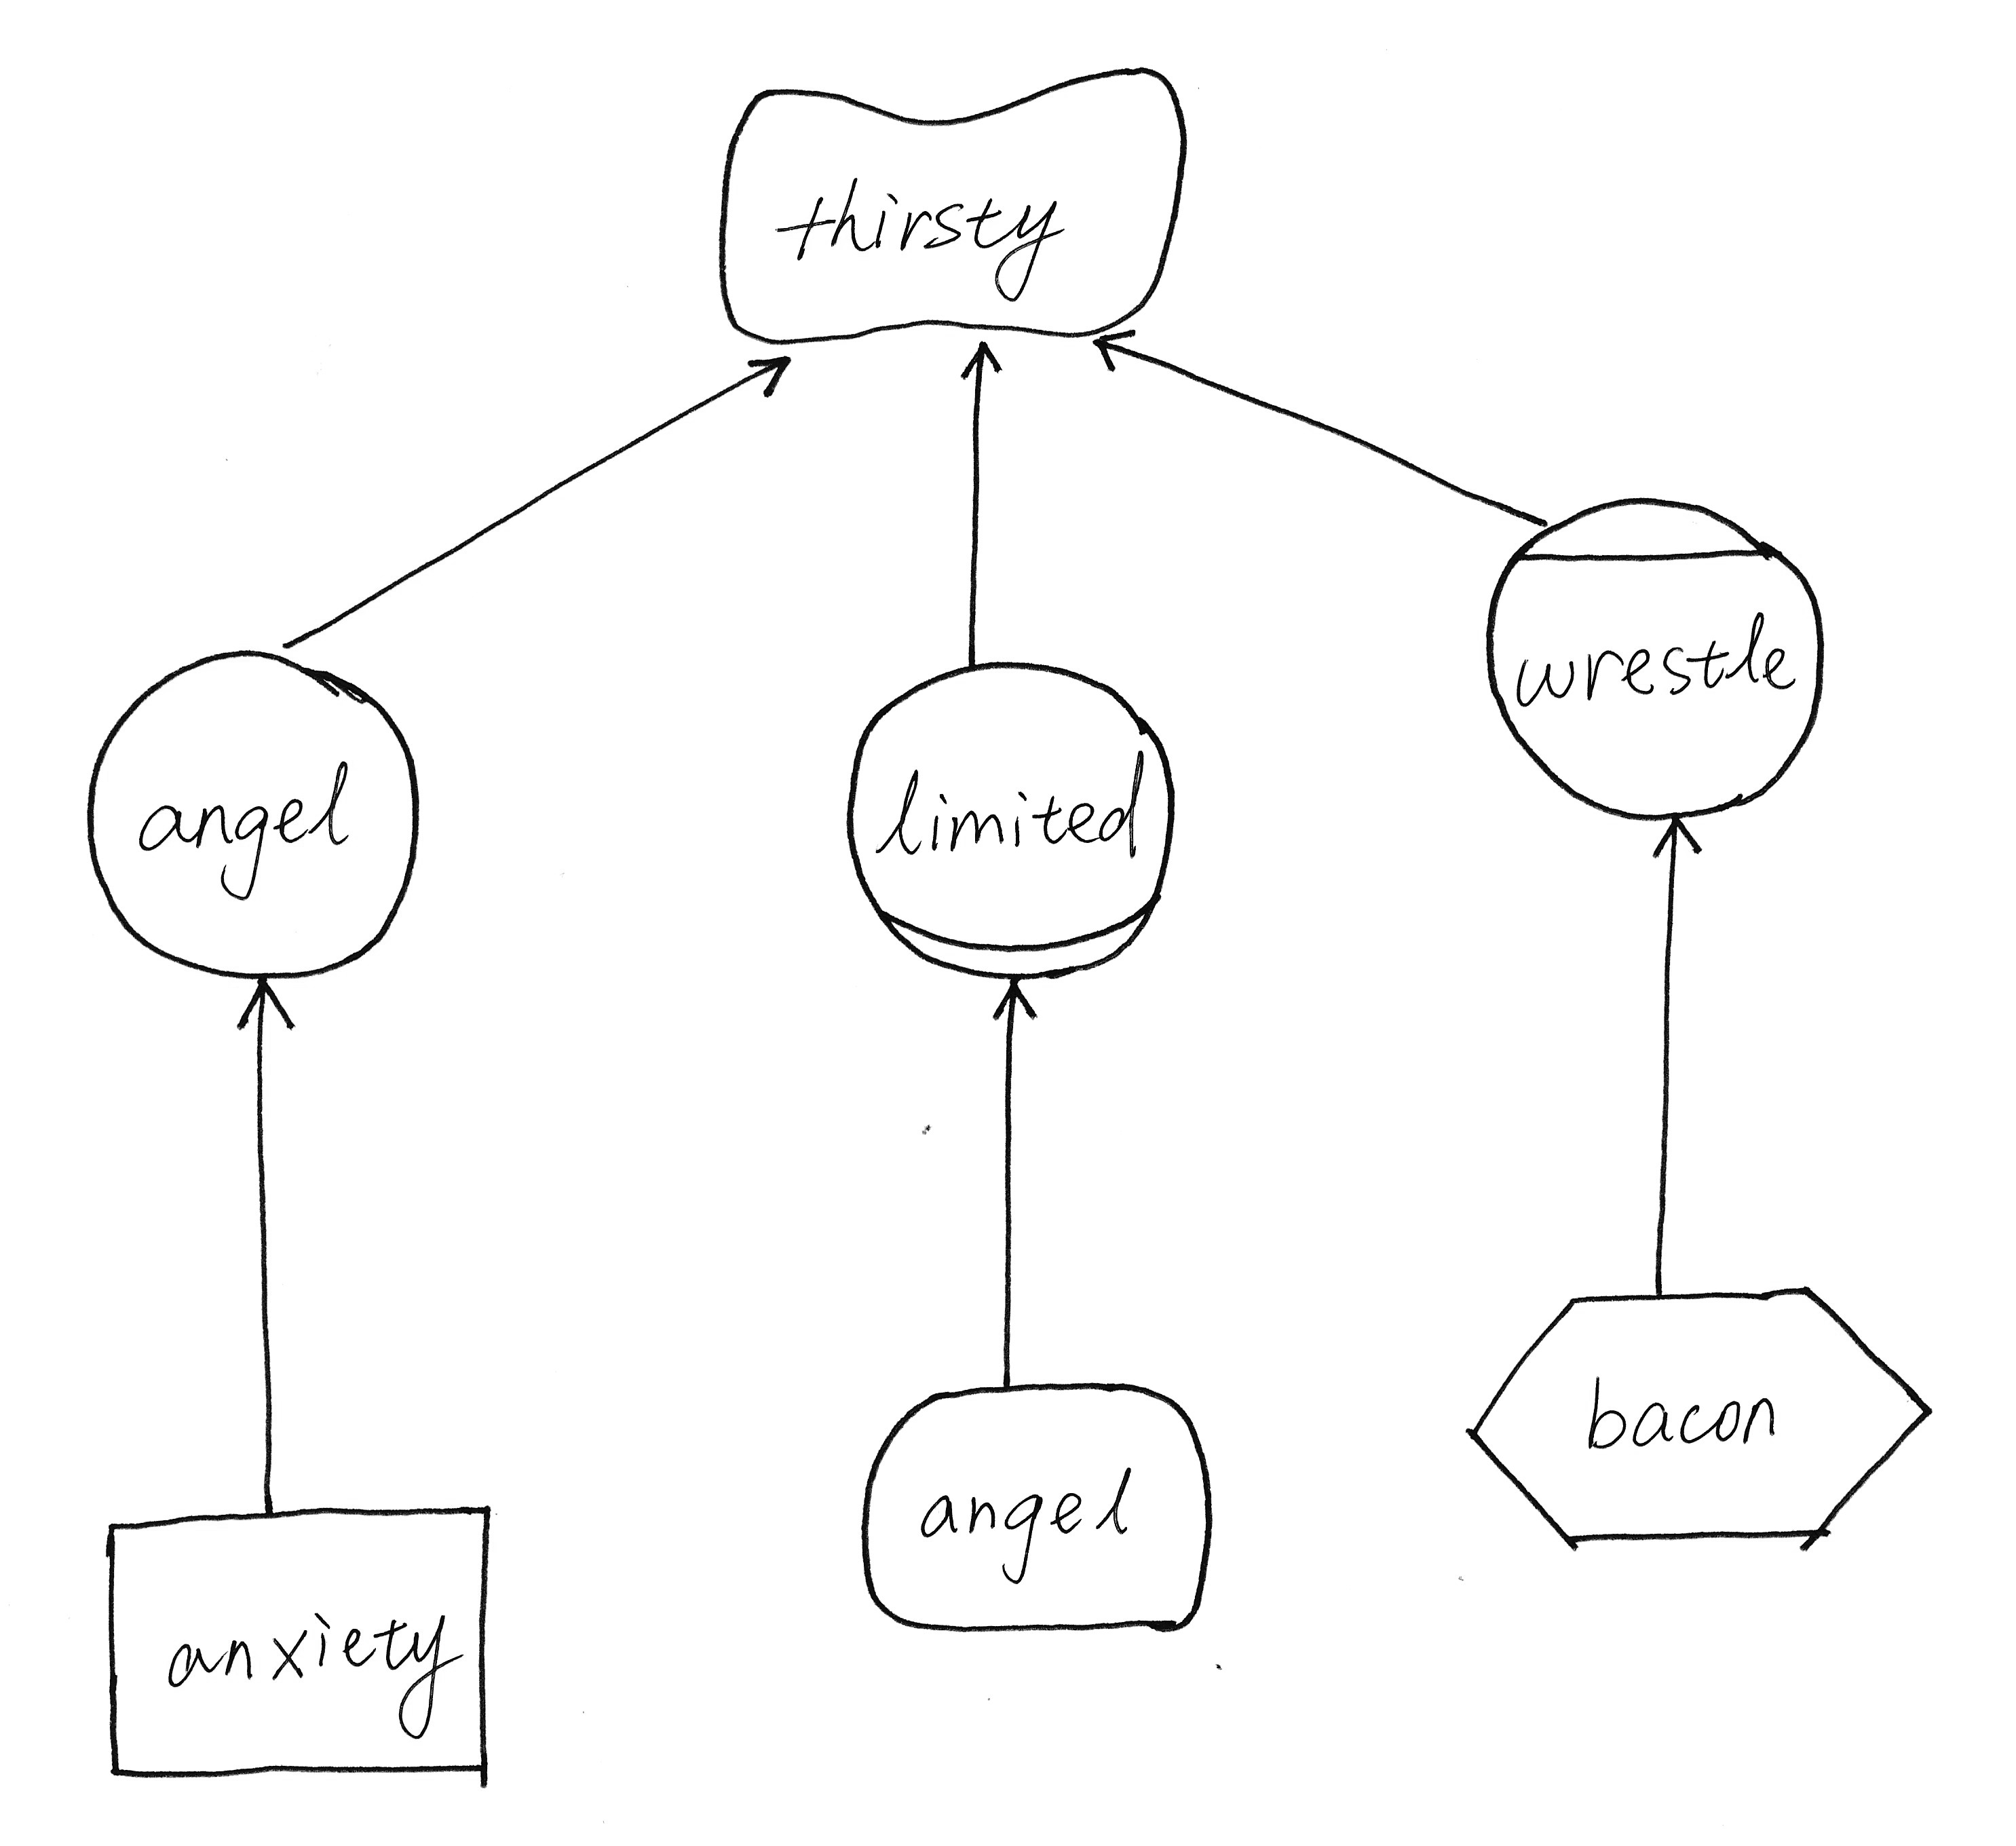actor: (65, 627, 446, 1001)
agent: (1461, 480, 1846, 833)
arrow: (225, 954, 307, 1038), (1633, 801, 1716, 876), (736, 334, 808, 409), (943, 323, 1019, 395), (982, 963, 1052, 1038), (1082, 316, 1152, 381)
goal: (843, 1363, 1236, 1649)
quality: (699, 44, 1206, 360)
resource: (84, 1484, 523, 1802)
role: (824, 639, 1198, 994)
task: (1445, 1270, 1953, 1563)
